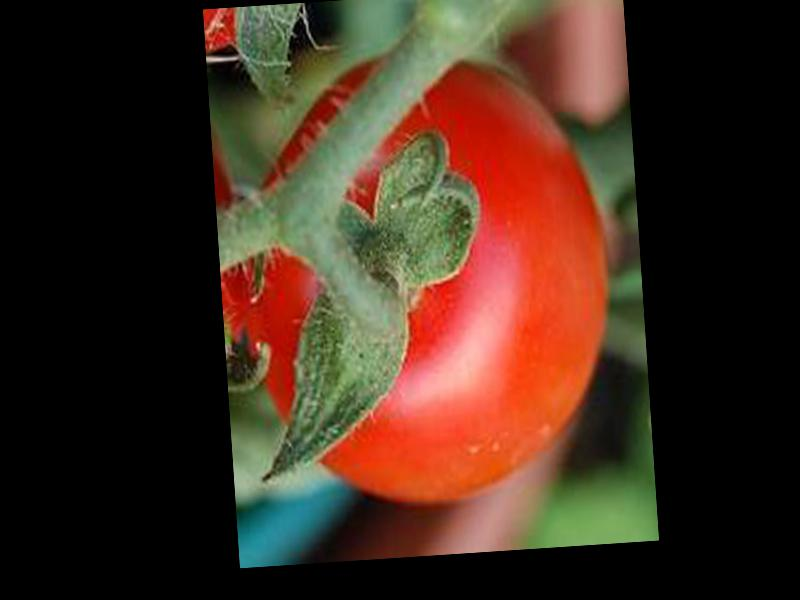Tomato: (216, 39, 620, 515)
